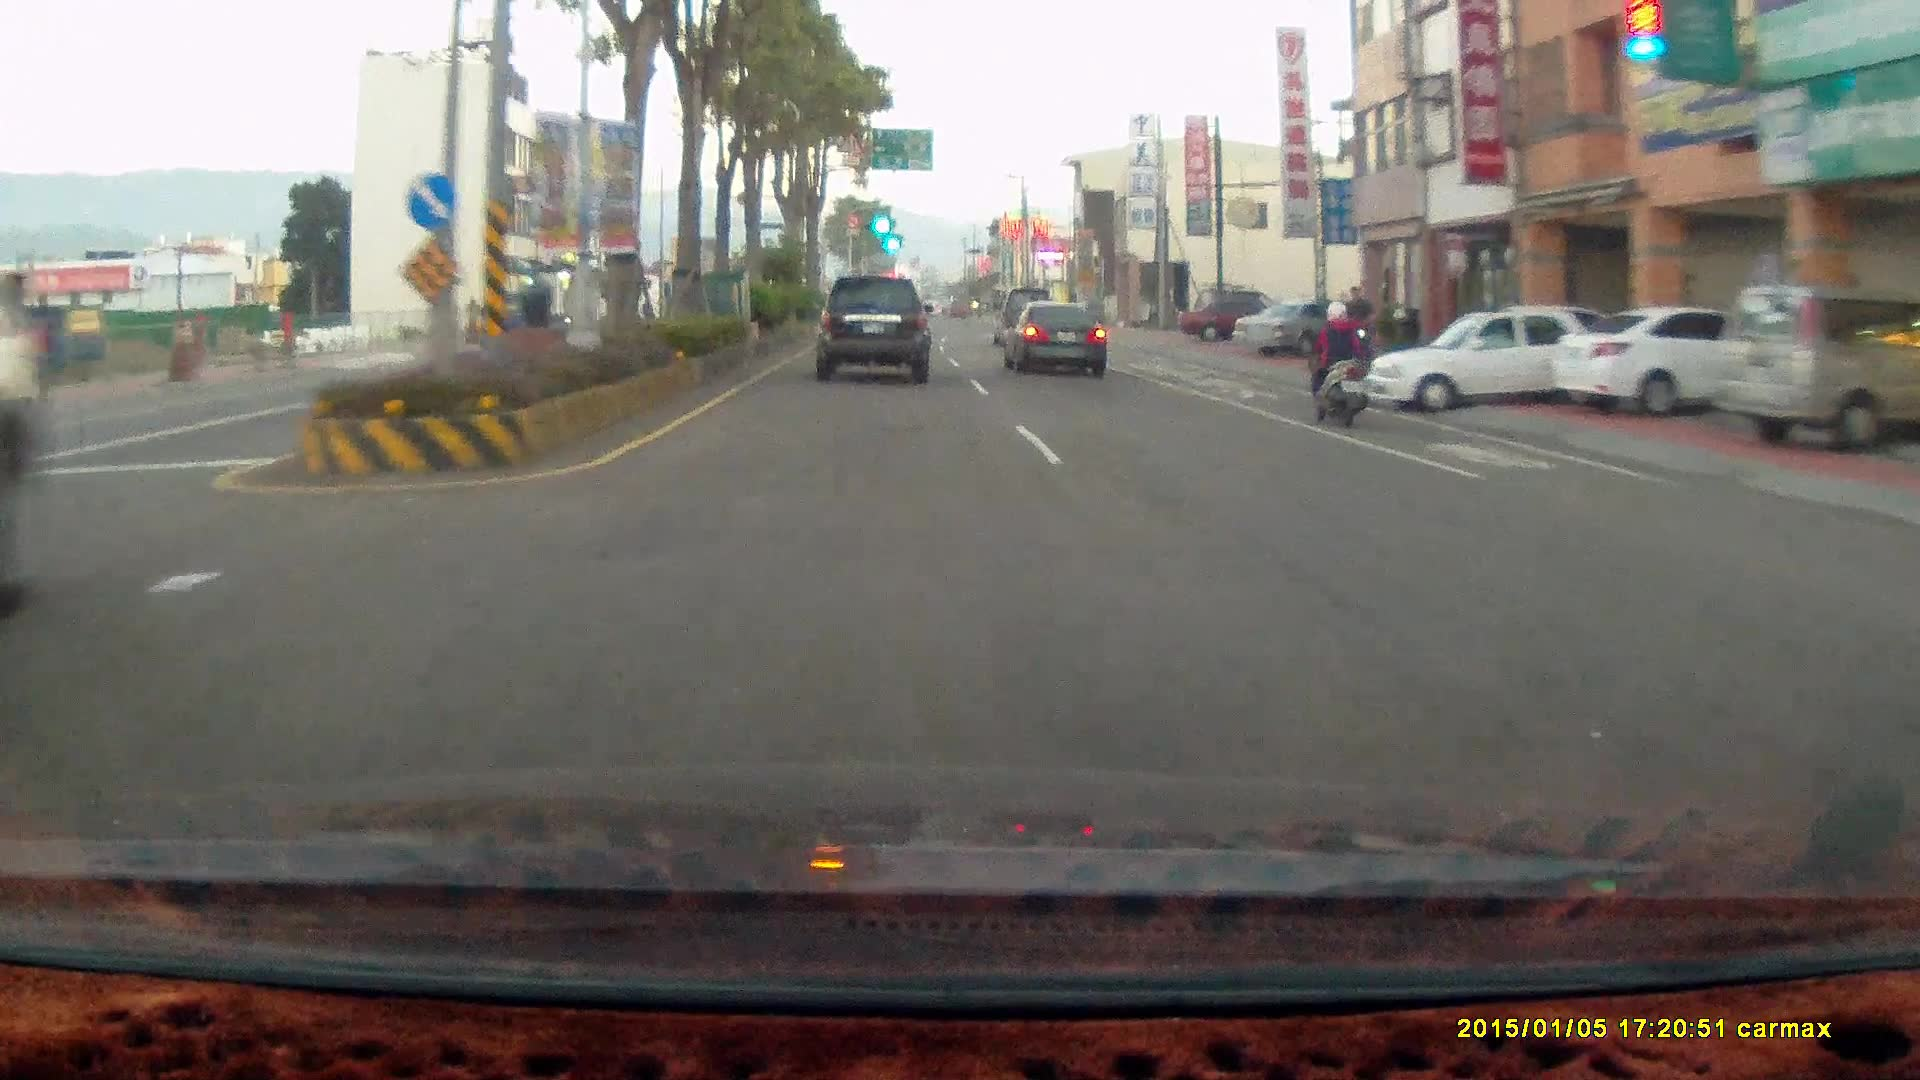pedestrian: (1338, 286, 1376, 380)
rider: (1293, 284, 1385, 433), (1302, 302, 1368, 431)
vehicle: (1714, 286, 1920, 458), (1363, 305, 1640, 409), (1550, 304, 1797, 418), (1364, 307, 1606, 411), (1545, 310, 1759, 424), (0, 255, 43, 621), (809, 274, 939, 386), (813, 274, 933, 385), (1233, 297, 1375, 358), (1002, 299, 1106, 377), (1007, 306, 1111, 382), (1179, 298, 1296, 342), (992, 288, 1055, 346)
